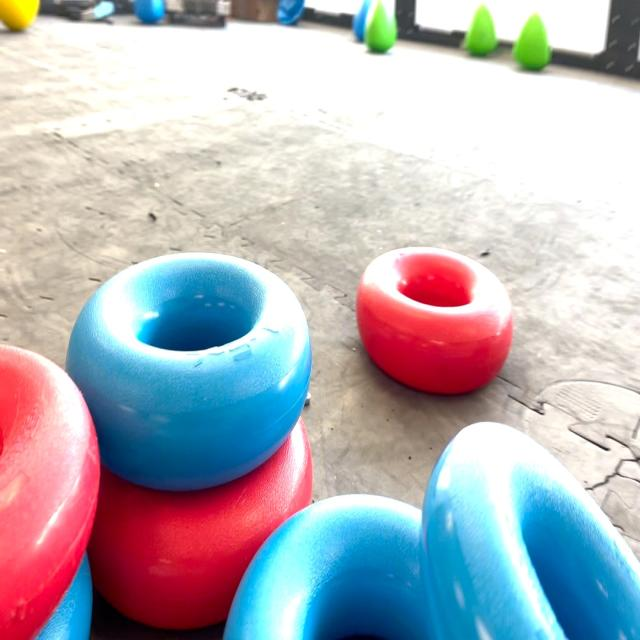Blue-Ring: (66, 253, 311, 491), (421, 422, 640, 639), (225, 496, 434, 639)
Red-Ring: (89, 418, 312, 629), (0, 344, 100, 637), (356, 247, 514, 393)
